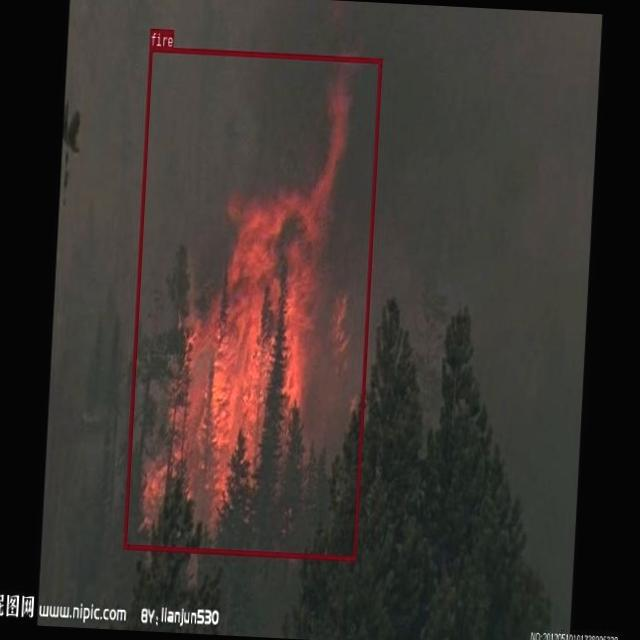fire: (124, 46, 382, 560)
